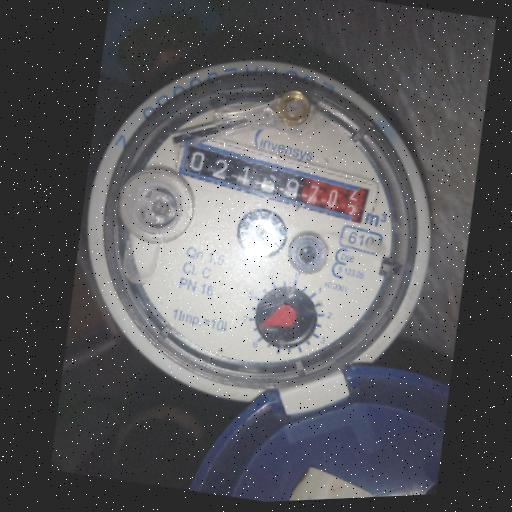0: (185, 145, 214, 178), (322, 183, 346, 214)
1: (233, 159, 259, 190)
2: (339, 184, 367, 224), (207, 151, 237, 185)
6: (254, 164, 283, 197)
7: (301, 178, 327, 209)
9: (278, 171, 304, 202)
border_water_meter_number: (166, 123, 387, 236)
